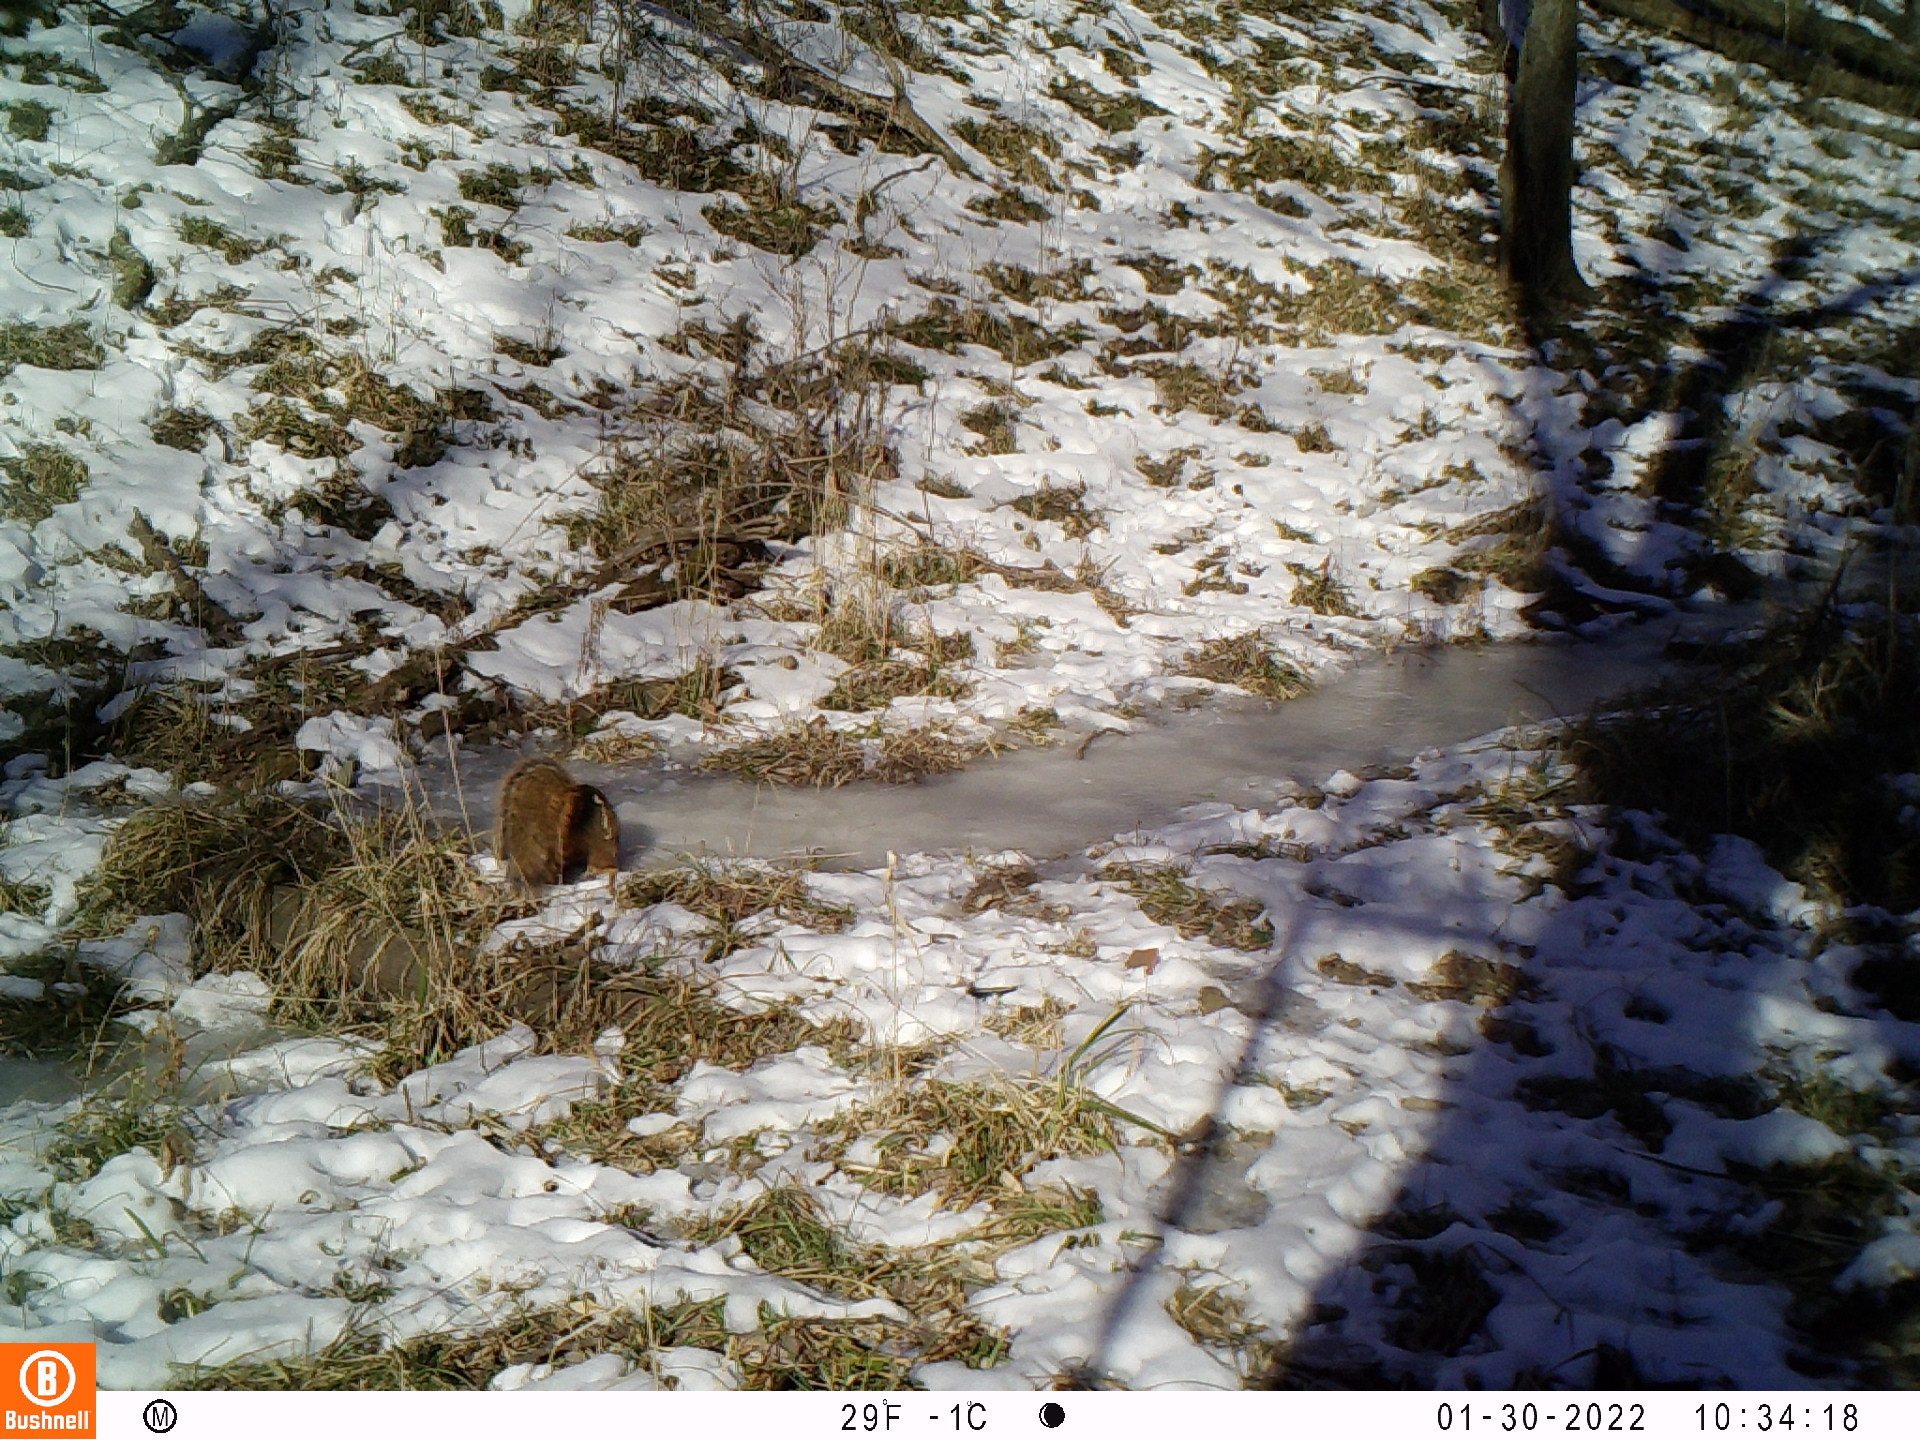Squirrel: (494, 753, 623, 883)
